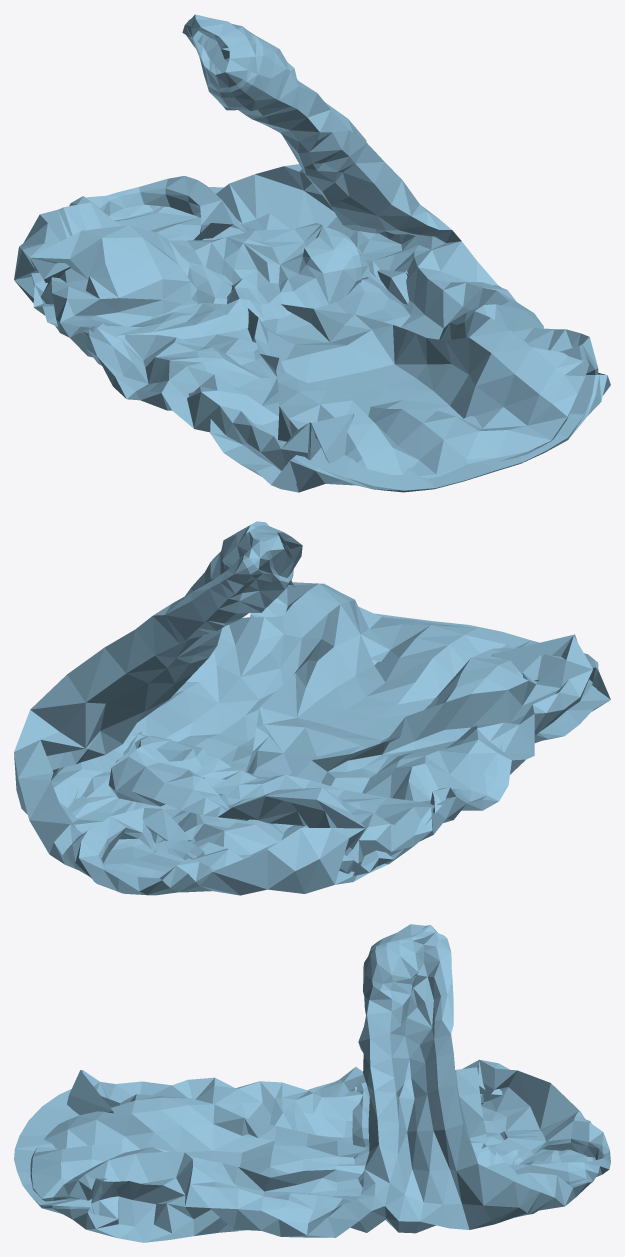
Rendered from frame_16.glb.
3 renders of one model, top to bottom at view 1: azimuth 30°, elevation 25°; view 2: azimuth 150°, elevation 25°; view 3: azimuth 270°, elevation 25°, orthographic. The views are drawn at different scales.
Parts seen in each view (by area): view 1: frame_16.obj; view 2: frame_16.obj; view 3: frame_16.obj.
Part boxes in pixels (x1=…): frame_16.obj: x1=14, y1=14, x2=610, y2=492; frame_16.obj: x1=14, y1=521, x2=610, y2=895; frame_16.obj: x1=14, y1=924, x2=610, y2=1242.
Size of the model in its own units: 0.9557 by 0.7449 by 1.6.
